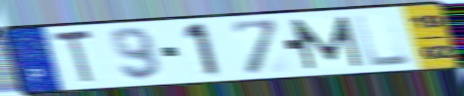1: (182, 21, 223, 78)
7: (232, 17, 280, 76)
9: (109, 26, 164, 83)
L: (352, 12, 415, 69)
M: (288, 14, 366, 71)
T: (50, 27, 97, 87)
